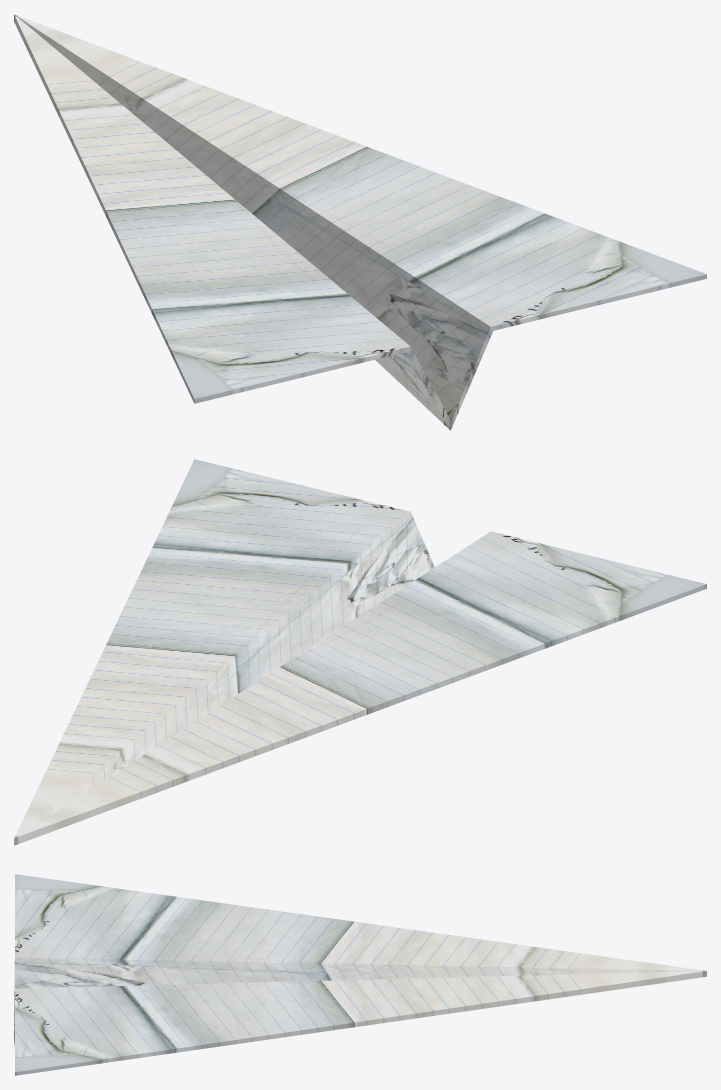
File: PaperPlane.fbx
The picture shows the model from 3 angles, top to bottom: view 1: azimuth 30°, elevation 25°; view 2: azimuth 150°, elevation 25°; view 3: azimuth 270°, elevation 25°; orthographic projection. The views are drawn at different scales.
Visible parts, largest first — view 1: Cube; view 2: Cube; view 3: Cube.
Part boxes in pixels (x1=…): Cube: x1=14, y1=14, x2=706, y2=430; Cube: x1=14, y1=459, x2=706, y2=845; Cube: x1=14, y1=874, x2=706, y2=1075.
Size of the model in its own units: 6 by 1.08 by 8.87.
